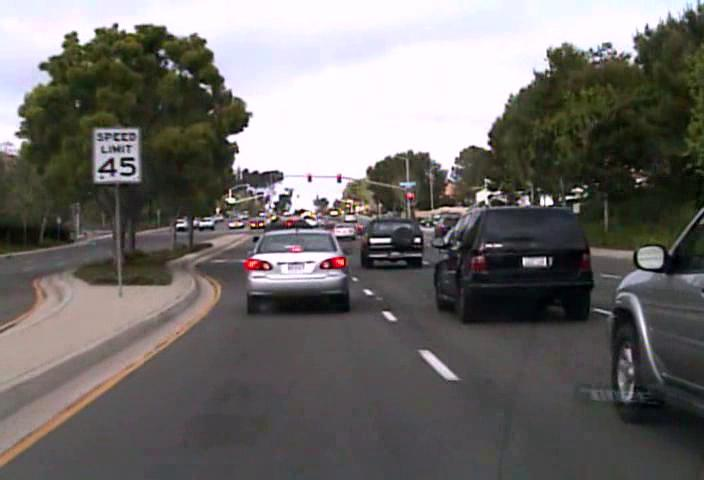speedLimit45: (92, 125, 141, 184)
